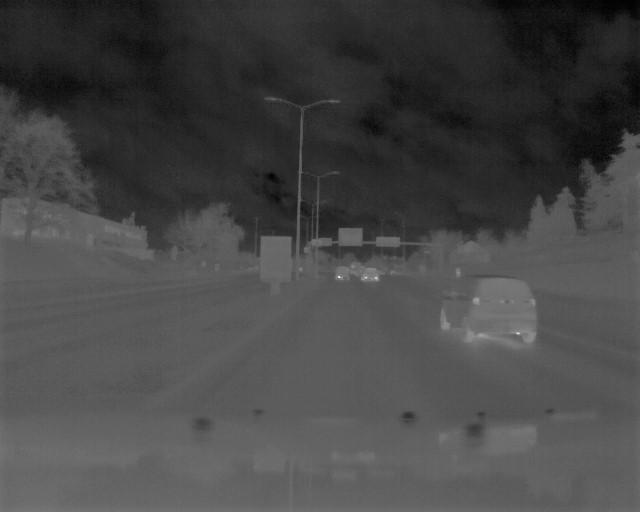car: (438, 276, 541, 347), (361, 267, 379, 283)
